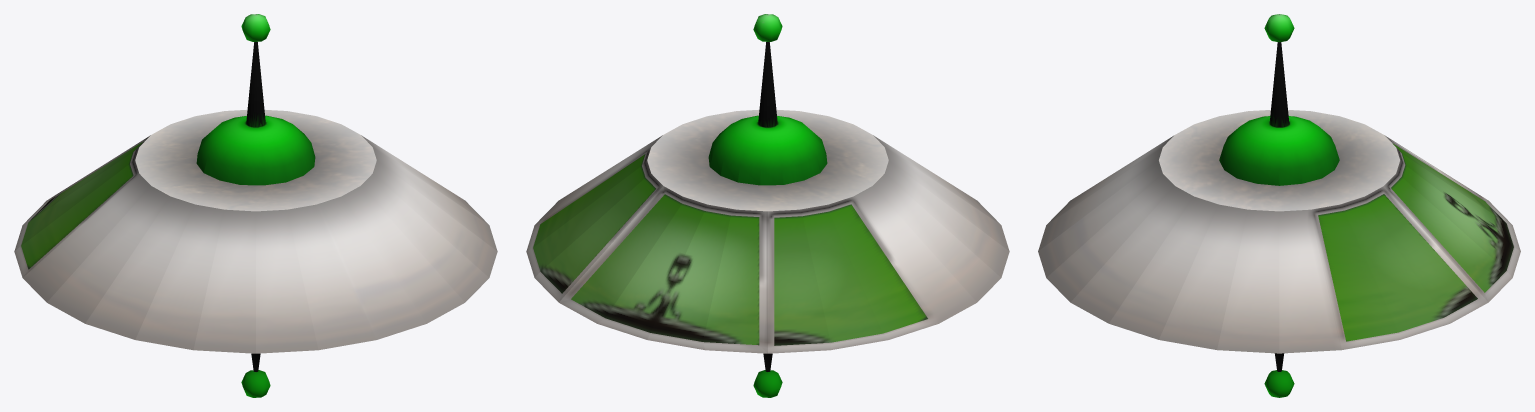
File: enemy.fbx
The picture shows the model from 3 angles, left to right: view 1: azimuth 30°, elevation 25°; view 2: azimuth 150°, elevation 25°; view 3: azimuth 270°, elevation 25°; orthographic projection.
Parts seen in each view (by area): view 1: enemy; view 2: enemy; view 3: enemy.
Boxes of the visible parts, <box> form: enemy: <box>14,14,497,397</box>; enemy: <box>526,14,1009,397</box>; enemy: <box>1038,14,1520,397</box>.
Size of the model in its own units: 120 by 105 by 120.
1 material, 1 textured.
